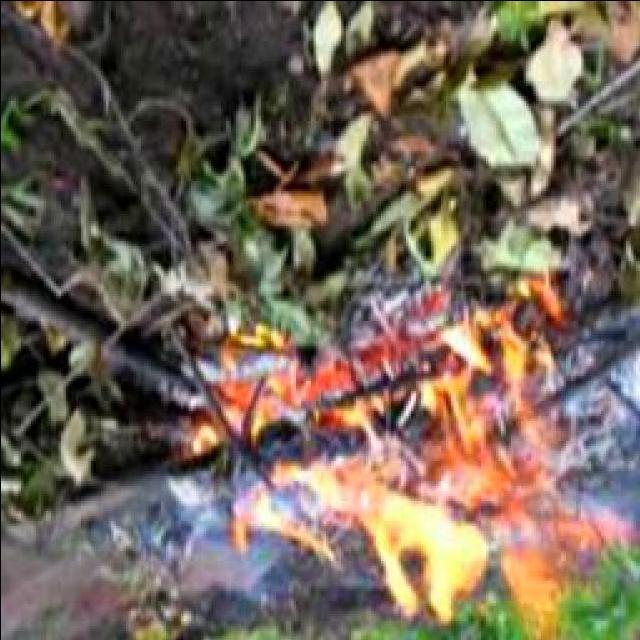Fire: (185, 354, 598, 629)
